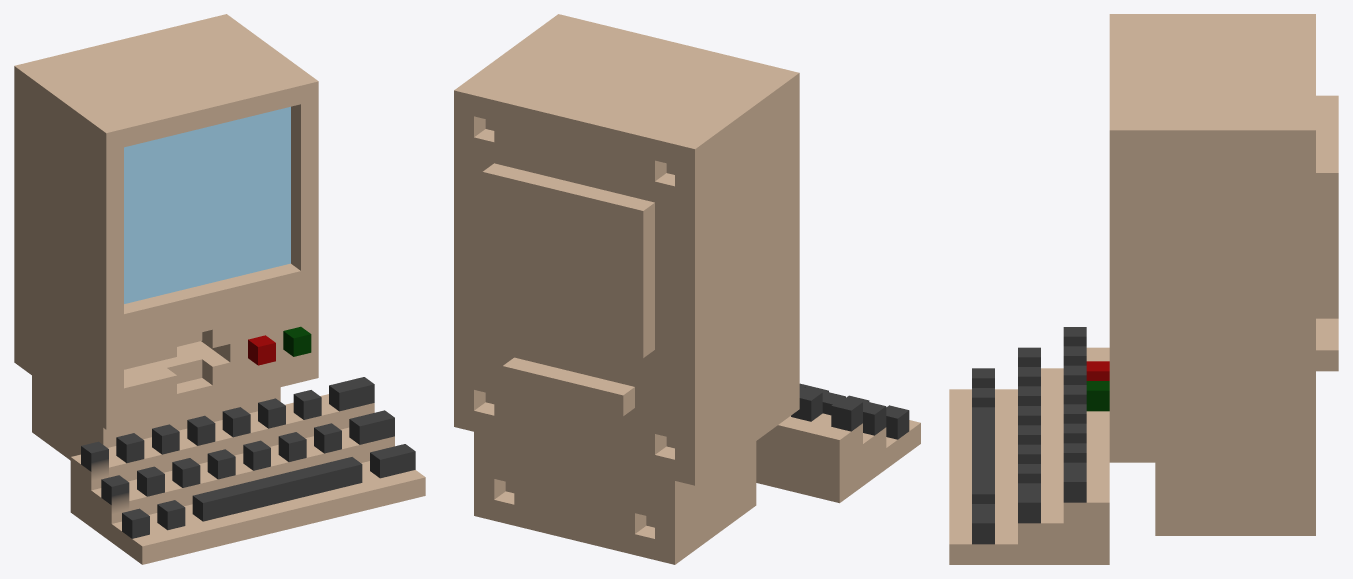
The model's file is Computer.dae.
The picture shows the model from 3 angles, left to right: view 1: azimuth 30°, elevation 25°; view 2: azimuth 150°, elevation 25°; view 3: azimuth 270°, elevation 25°; orthographic projection. The views are drawn at different scales.
Parts seen in each view (by area): view 1: Computer; view 2: Computer; view 3: Computer.
Boxes of the visible parts, <box> form: Computer: <box>14,14,425,564</box>; Computer: <box>454,14,920,564</box>; Computer: <box>949,14,1338,564</box>.
Size of the model in its own units: 16 by 20 by 17.
